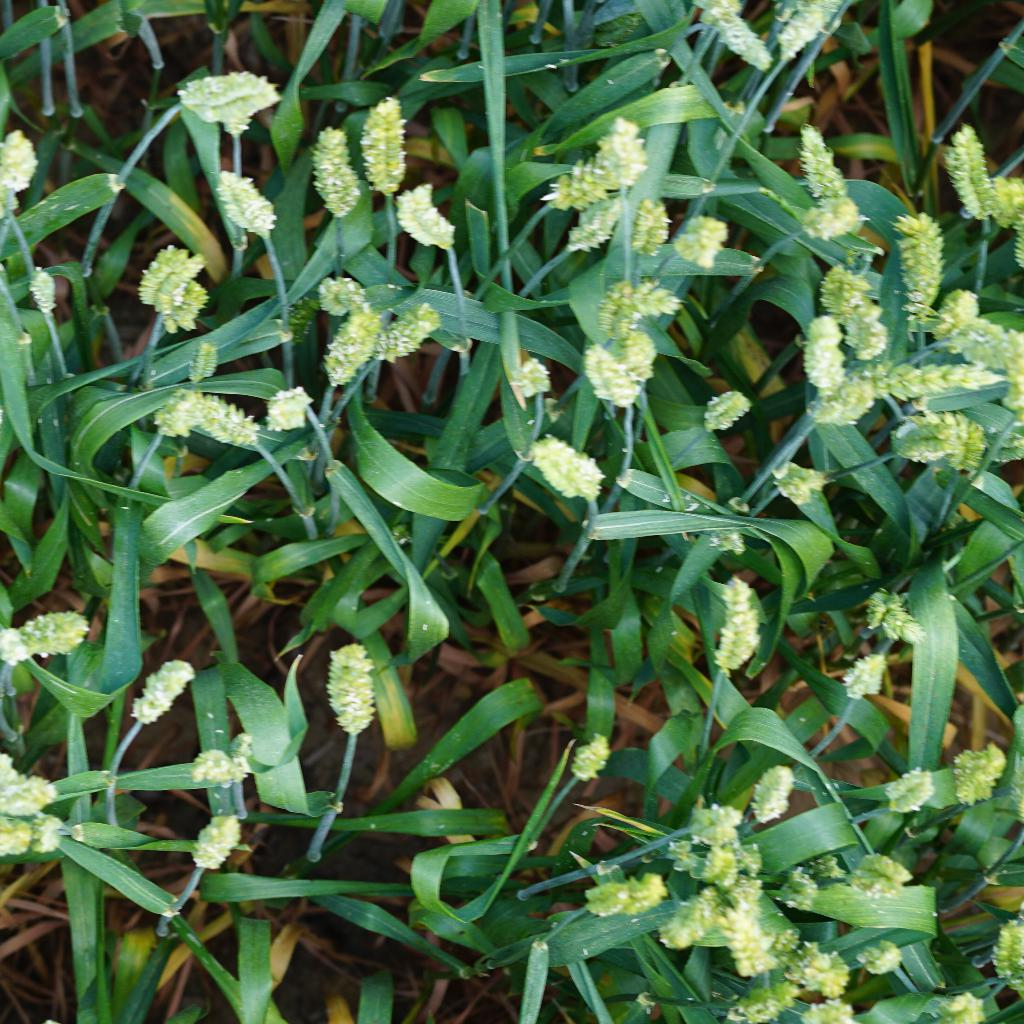0-0: (955, 304, 1024, 472), (536, 139, 634, 212), (817, 264, 891, 360), (762, 1, 854, 76), (843, 360, 997, 404), (321, 299, 392, 394), (598, 274, 683, 352), (300, 125, 365, 225), (323, 636, 377, 756), (353, 97, 414, 202), (174, 807, 246, 890), (891, 207, 937, 335), (388, 180, 462, 259), (138, 240, 217, 313), (710, 575, 763, 683), (937, 124, 993, 226), (211, 166, 279, 250), (166, 71, 285, 119), (529, 437, 600, 516), (129, 658, 198, 738), (0, 609, 88, 670), (357, 301, 442, 364), (653, 884, 728, 955), (793, 119, 855, 203), (0, 746, 69, 821), (879, 408, 967, 463), (560, 190, 632, 257), (186, 388, 263, 449), (594, 118, 654, 195), (721, 901, 779, 980), (789, 941, 866, 997), (949, 737, 1008, 809), (795, 314, 851, 389), (576, 341, 640, 405), (980, 914, 1024, 1005), (865, 585, 929, 647), (803, 377, 877, 430), (153, 276, 212, 340), (621, 193, 673, 263), (927, 284, 984, 347), (714, 17, 775, 73), (672, 214, 736, 267), (727, 978, 799, 1024), (801, 195, 869, 243), (263, 382, 323, 436), (678, 802, 748, 847), (209, 78, 256, 145), (751, 763, 800, 827), (146, 387, 200, 444), (273, 293, 323, 354), (695, 389, 751, 442), (840, 648, 890, 707), (847, 851, 908, 899), (879, 764, 932, 819), (612, 869, 670, 918), (565, 730, 613, 789), (771, 459, 825, 510), (584, 8, 651, 49), (944, 414, 986, 477), (853, 933, 911, 978), (314, 263, 366, 313), (0, 128, 38, 194), (724, 865, 768, 920), (986, 168, 1024, 231), (795, 993, 871, 1024), (923, 987, 985, 1024), (622, 327, 659, 387), (26, 266, 59, 326), (0, 817, 45, 861), (582, 879, 631, 919), (182, 336, 221, 386), (777, 864, 815, 913), (190, 749, 238, 787), (691, 0, 741, 36), (694, 848, 738, 888), (508, 354, 550, 392), (806, 851, 836, 878)
